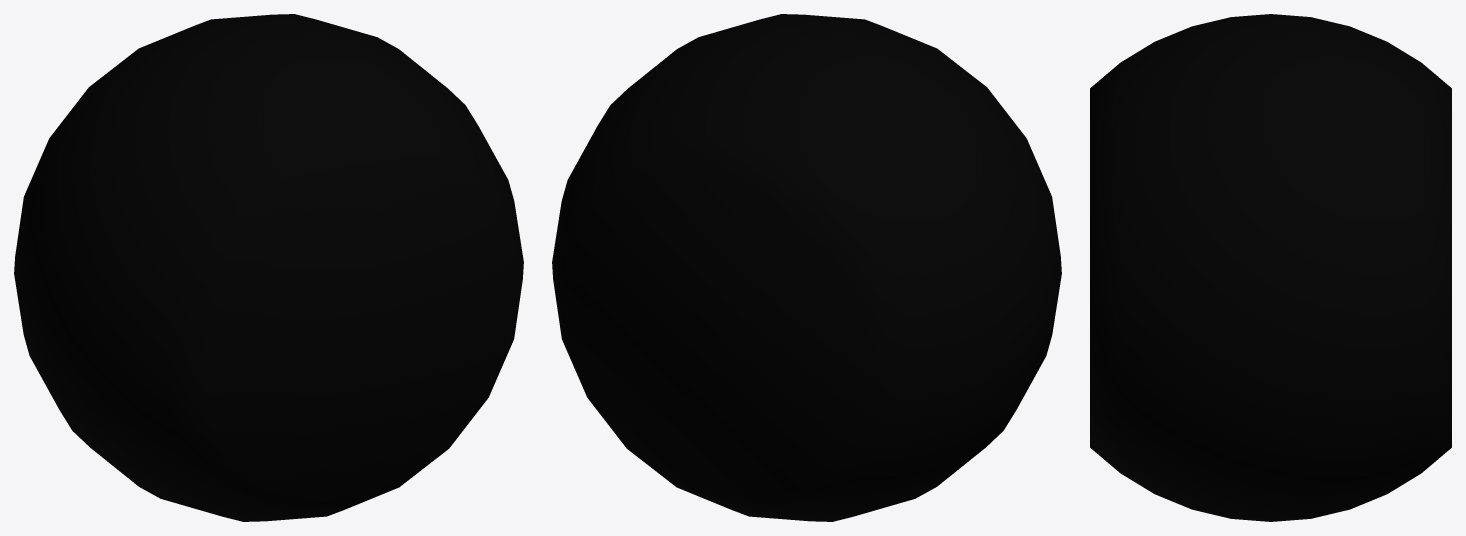
Rendered from RShoulderPitch.obj.
3 renders of one model, left to right at view 1: azimuth 30°, elevation 25°; view 2: azimuth 150°, elevation 25°; view 3: azimuth 270°, elevation 25°, orthographic.
Size of the model in its own units: 0.832 by 0.832 by 0.5883.
